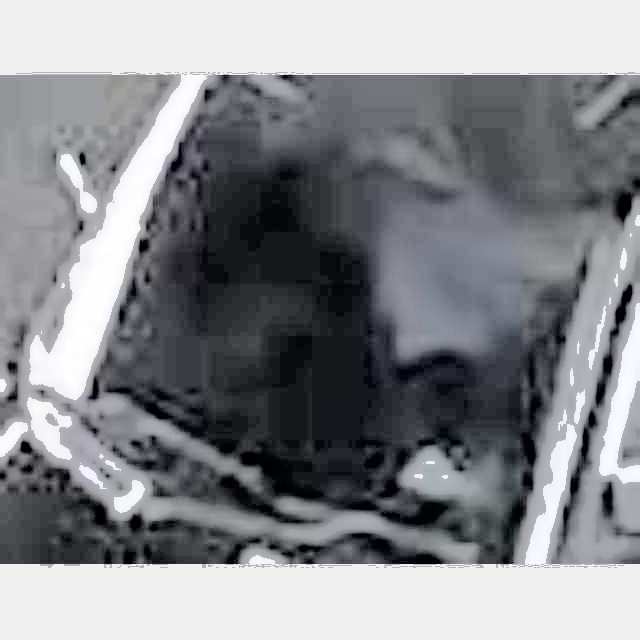tidak-pakai: (353, 166, 549, 408)
